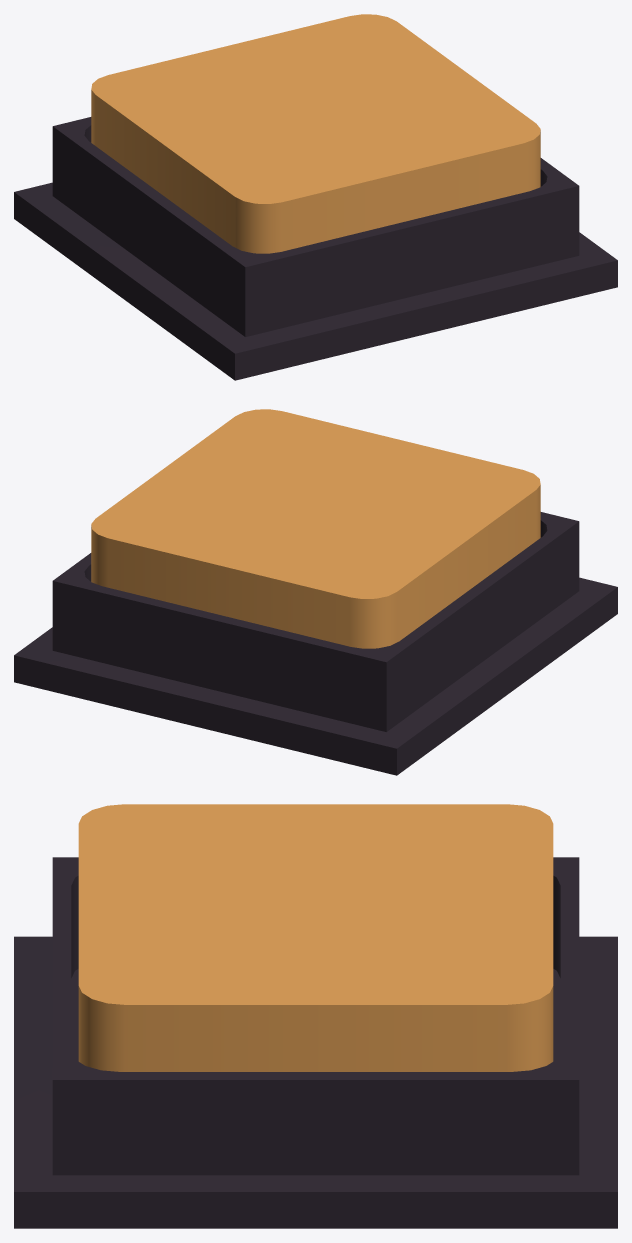
Rendered from botãoAmarelo.fbx.
The picture shows the model from 3 angles, top to bottom: view 1: azimuth 30°, elevation 25°; view 2: azimuth 150°, elevation 25°; view 3: azimuth 270°, elevation 25°; orthographic projection. The views are drawn at different scales.
Parts seen in each view (by area): view 1: Botão, Casing; view 2: Botão, Casing; view 3: Botão, Casing.
Boxes of the visible parts, box(x1,y1,x2,y2) form: Botão: box(91, 14, 540, 253); Casing: box(14, 117, 617, 380); Botão: box(91, 409, 540, 648); Casing: box(14, 512, 617, 775); Botão: box(78, 804, 553, 1071); Casing: box(14, 857, 617, 1228).
Bounding box in the file's own units: 229 × 82.5 × 229.
